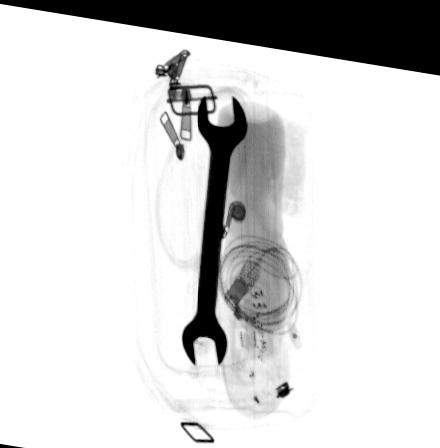Wrench: (179, 85, 248, 365)
